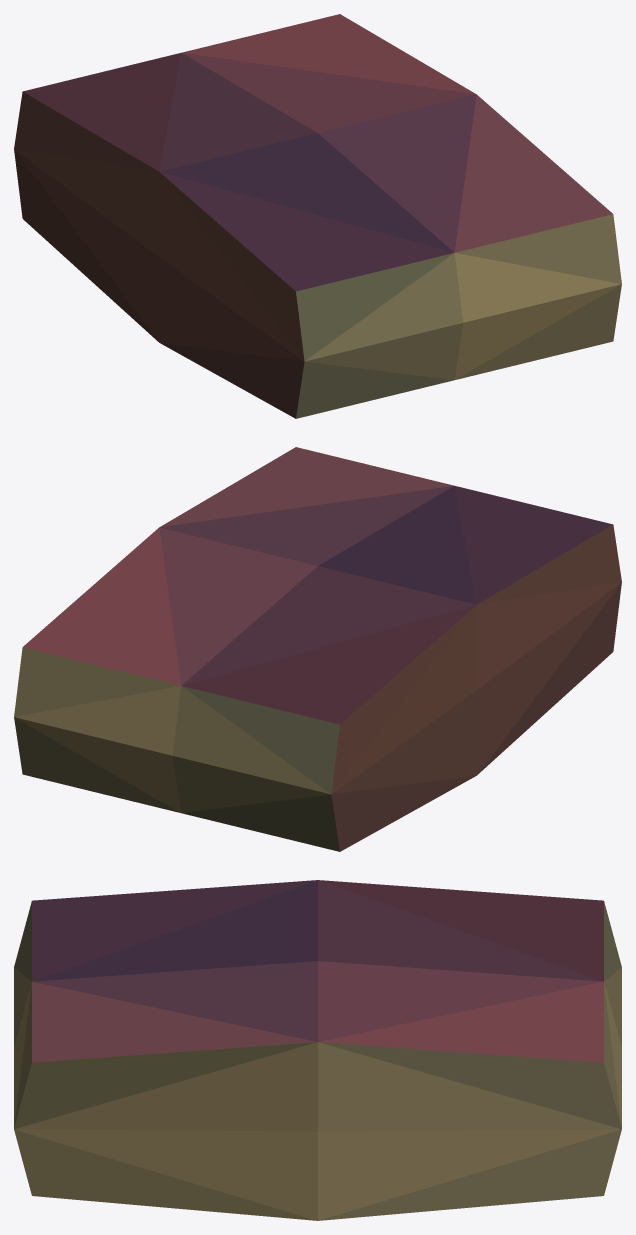
The model's file is prop_literature_book10.fbx.
The picture shows the model from 3 angles, top to bottom: view 1: azimuth 30°, elevation 25°; view 2: azimuth 150°, elevation 25°; view 3: azimuth 270°, elevation 25°; orthographic projection. The views are drawn at different scales.
Parts seen in each view (by area): view 1: prop_literature_book10; view 2: prop_literature_book10; view 3: prop_literature_book10.
Part boxes in pixels (<box>): prop_literature_book10: <box>14,14,621,418</box>; prop_literature_book10: <box>14,447,621,851</box>; prop_literature_book10: <box>14,880,621,1220</box>.
Bounding box in the file's own units: 0.3895 × 0.2005 × 0.6175.
